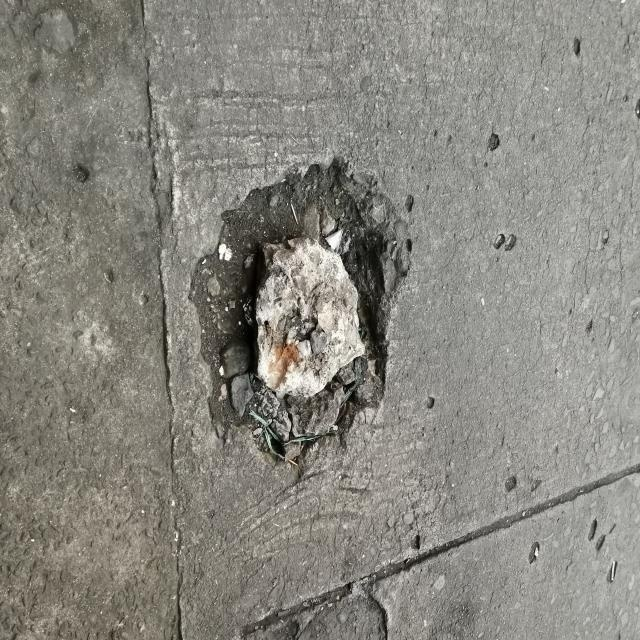pothole: (137, 130, 425, 486)
